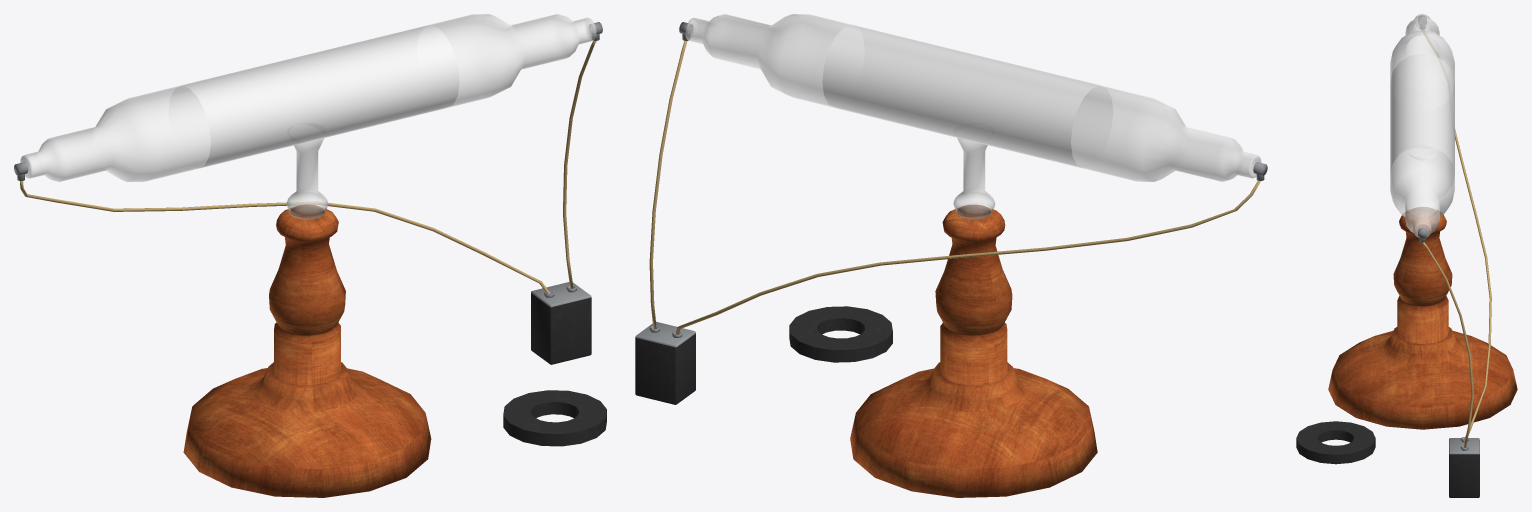
The model's file is Cathode Updated.fbx.
3 views of the same model, side by side, from view 1: azimuth 30°, elevation 25°; view 2: azimuth 150°, elevation 25°; view 3: azimuth 270°, elevation 25° (orthographic). The views are drawn at different scales.
Parts seen in each view (by area): view 1: Cylinder.001, Cylinder.002, Battery, Magnet, Wire; view 2: Cylinder.001, Cylinder.002, Battery, Magnet, Wire; view 3: Cylinder.002, Cylinder.001, Magnet, Battery, Wire.
Boxes of the visible parts, left/top/right/bottom form: Cylinder.001: left=20, top=14, right=596, bottom=219; Cylinder.002: left=183, top=204, right=431, bottom=497; Battery: left=14, top=22, right=602, bottom=364; Magnet: left=503, top=390, right=606, bottom=446; Wire: left=20, top=40, right=596, bottom=293; Cylinder.001: left=685, top=14, right=1261, bottom=219; Cylinder.002: left=850, top=204, right=1097, bottom=497; Battery: left=635, top=22, right=1267, bottom=404; Magnet: left=789, top=306, right=892, bottom=362; Wire: left=649, top=40, right=1260, bottom=334; Cylinder.002: left=1328, top=207, right=1517, bottom=429; Cylinder.001: left=1390, top=14, right=1454, bottom=237; Magnet: left=1296, top=421, right=1375, bottom=464; Battery: left=1418, top=15, right=1479, bottom=497; Wire: left=1422, top=30, right=1491, bottom=447.
Bounding box in the file's own units: 79.1 × 49.26 × 33.75.
